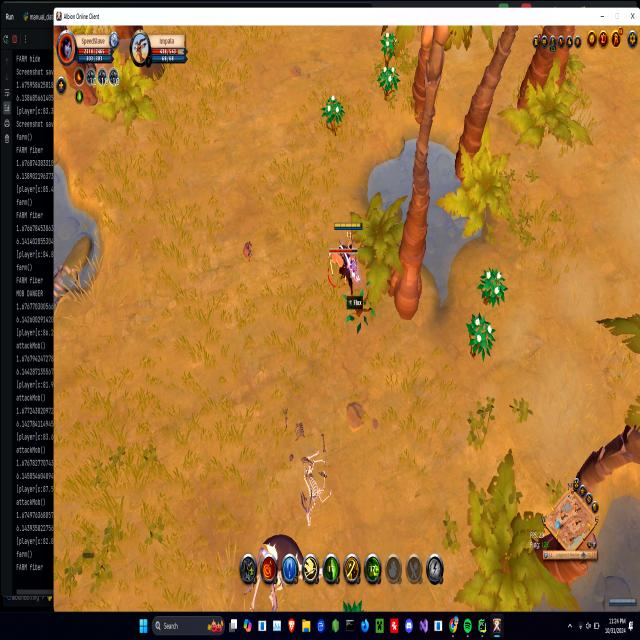hide: (467, 310, 495, 361), (480, 265, 506, 310), (322, 93, 343, 130), (378, 62, 398, 97), (380, 29, 396, 62)
mob: (248, 530, 323, 610)
red: (330, 220, 363, 297), (607, 596, 639, 611)
